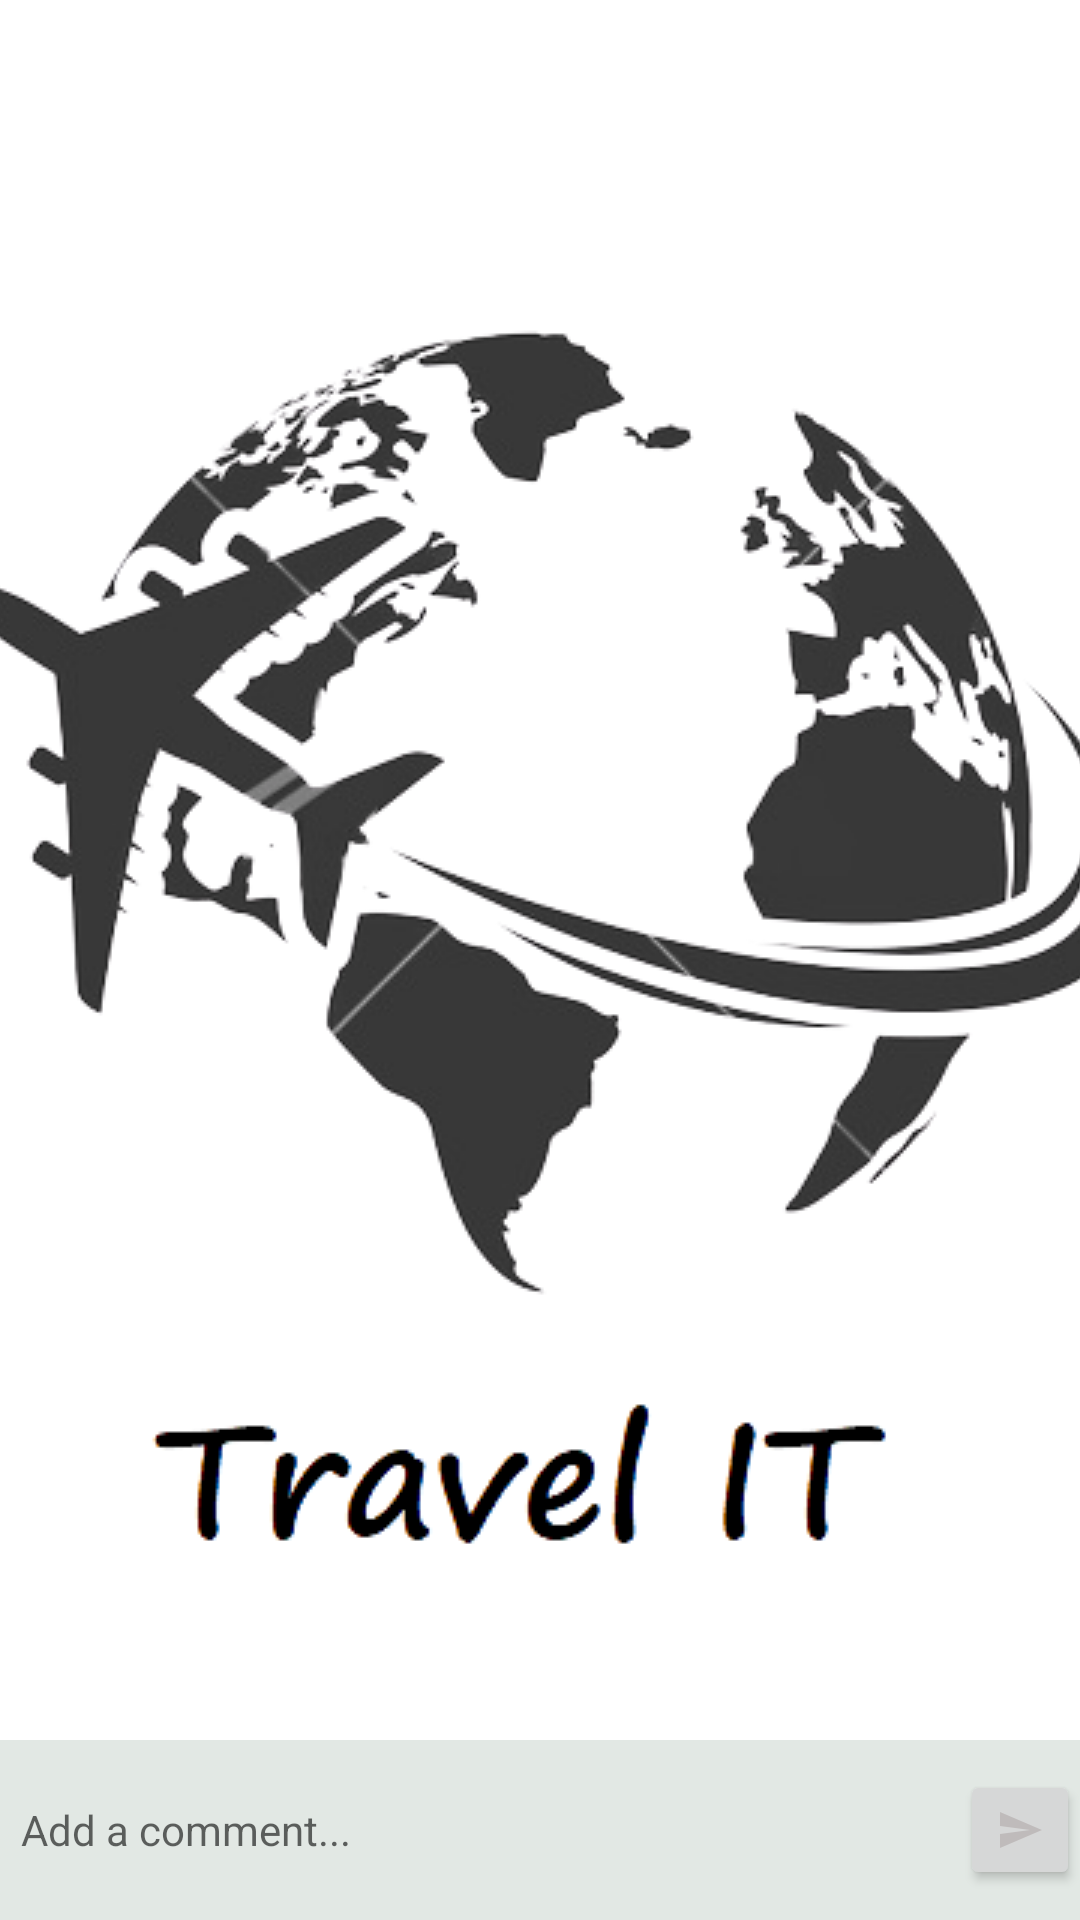

Icon click points for this 1080w x 1920h phone screenshot, format (x=x, y=y):
send: (x=1021, y=1835)
